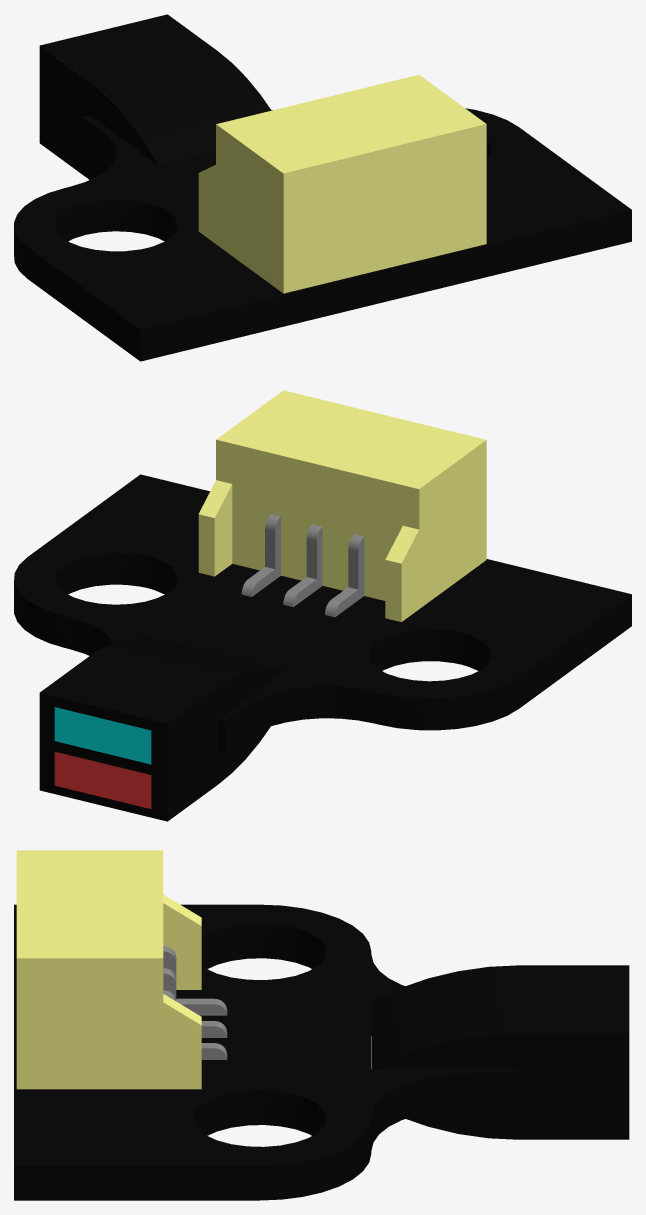
File: electronics_003.obj
3 views of the same model, one above another, from view 1: azimuth 30°, elevation 25°; view 2: azimuth 150°, elevation 25°; view 3: azimuth 270°, elevation 25° (orthographic). The views are drawn at different scales.
Size of the model in its own units: 0.0242 by 0.0087 by 0.0242.
